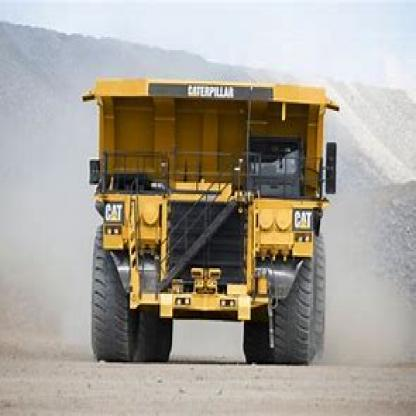dump_truck: (71, 67, 337, 370)
